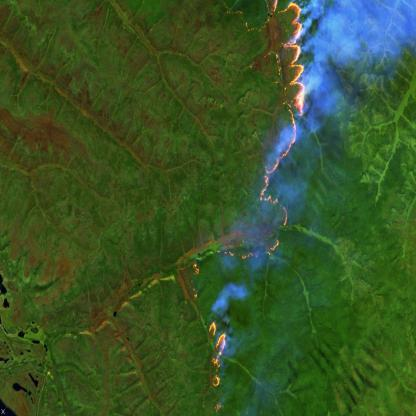fire: (217, 0, 311, 266), (199, 306, 233, 395)
